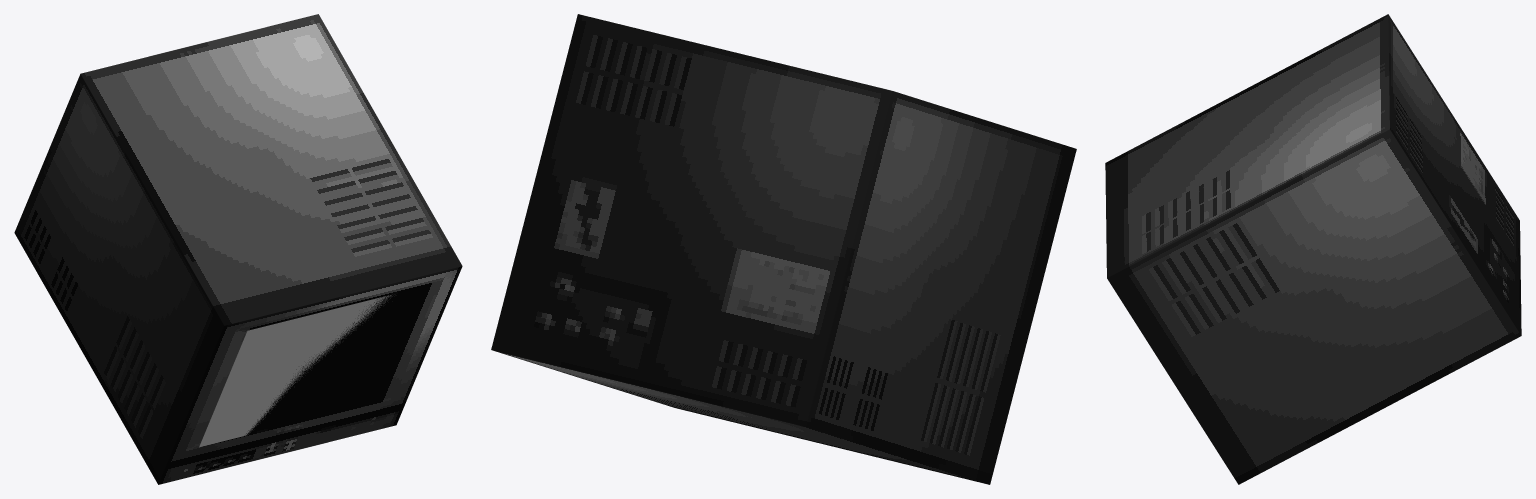
File: primary_091.glb
The picture shows the model from 3 angles, left to right: view 1: azimuth 30°, elevation 25°; view 2: azimuth 150°, elevation 25°; view 3: azimuth 270°, elevation 25°; orthographic projection. The views are drawn at different scales.
Visible parts, largest first — view 1: Object; view 2: Object; view 3: Object.
Part boxes in pixels (<box>): Object: <box>14,14,462,484</box>; Object: <box>491,14,1076,484</box>; Object: <box>1105,14,1521,484</box>.
Bounding box in the file's own units: 0.6628 × 0.9386 × 0.9957.
7 materials, 7 textured.
